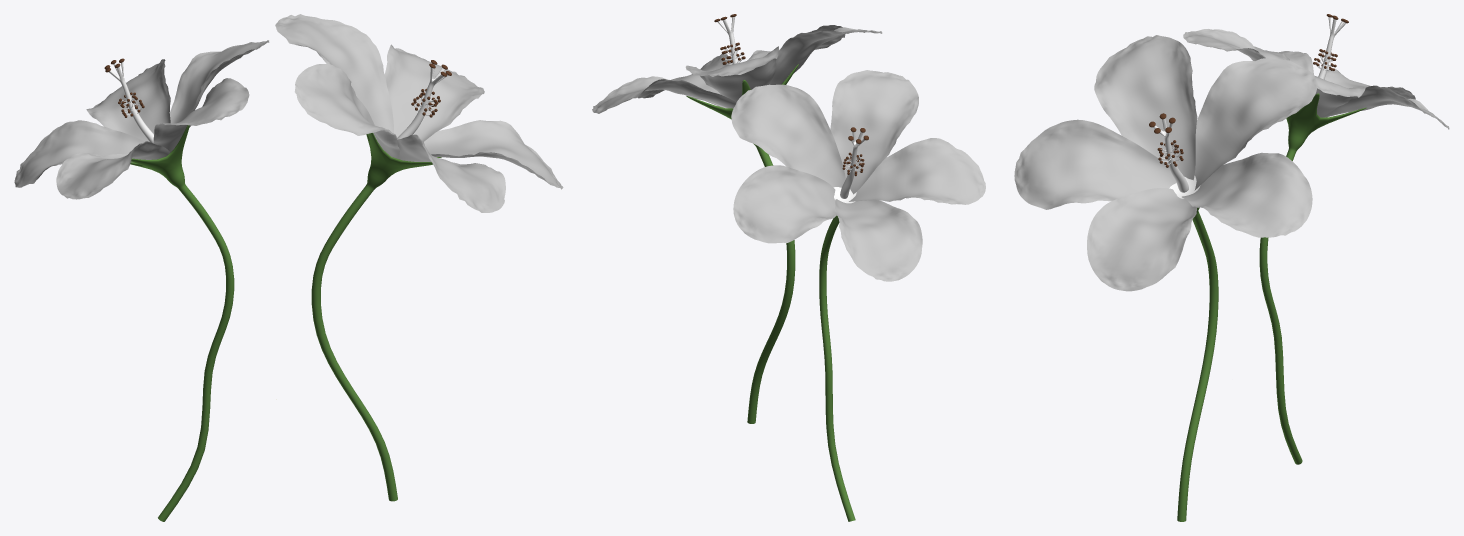
The model's file is whiteflower.glb.
The picture shows the model from 3 angles, left to right: view 1: azimuth 30°, elevation 25°; view 2: azimuth 150°, elevation 25°; view 3: azimuth 270°, elevation 25°; orthographic projection. The views are drawn at different scales.
Visible parts, largest first — view 1: Circle, Circle.001, Cylinder.001, Cylinder.004, Cylinder, Cylinder.003; view 2: Circle.001, Circle, Cylinder.004, Cylinder.001, Cylinder.003; view 3: Circle, Circle.001, Cylinder.004, Cylinder.001, Cylinder.
Part boxes in pixels (x1,y1,x2,y2): Circle: (275, 14, 563, 212); Circle.001: (14, 40, 269, 199); Cylinder.001: (311, 133, 441, 501); Cylinder.004: (130, 125, 234, 521); Cylinder: (397, 60, 451, 139); Cylinder.003: (104, 58, 153, 143); Circle.001: (731, 70, 985, 281); Circle: (592, 25, 882, 113); Cylinder.004: (819, 187, 856, 521); Cylinder.001: (686, 64, 798, 423); Cylinder.003: (840, 127, 868, 198); Circle: (1014, 35, 1317, 291); Circle.001: (1183, 29, 1449, 129); Cylinder.004: (1259, 93, 1366, 464); Cylinder.001: (1169, 175, 1218, 521); Cylinder: (1149, 113, 1188, 192).
Bounding box in the file's own units: 6.38 × 6.74 × 5.78.
